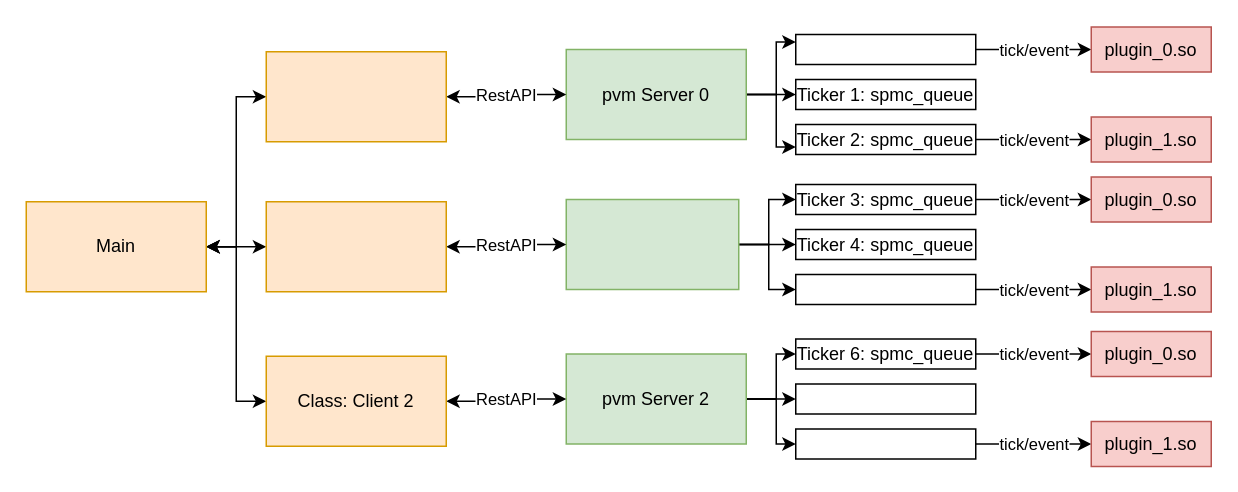
The diagram is 1238 pixels wide and 492 high, and some of its shapes have lost their labels. The centre of each missing label's shape, as x and y in pixels:
"Class: Client 0" goes at (x=355, y=96).
"Class: Client 1" goes at (x=355, y=246).
"pvm Server 1" goes at (x=652, y=244).
"Ticker 0: spmc_queue" goes at (x=885, y=48).
"Ticker 5: spmc_queue" goes at (x=885, y=288).
"Ticker 7: spmc_queue" goes at (x=885, y=398).
"Ticker 8: spmc_queue" goes at (x=885, y=443).
